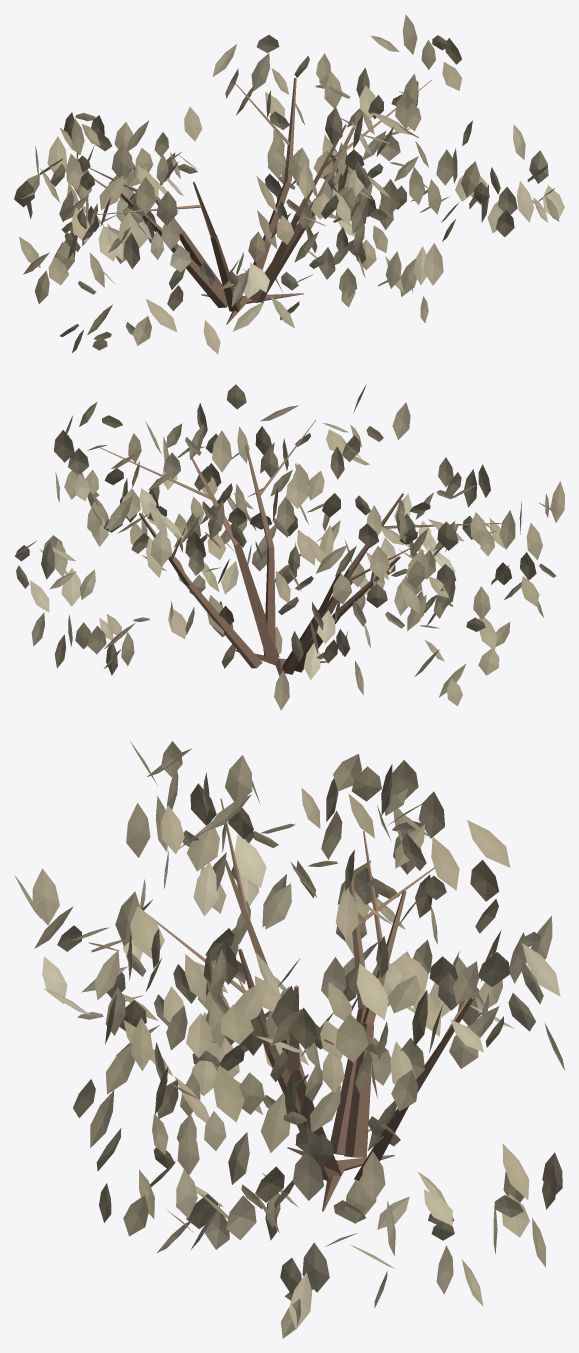
Rendered from bush_3d_02_golden_beige.glb.
The picture shows the model from 3 angles, top to bottom: view 1: azimuth 30°, elevation 25°; view 2: azimuth 150°, elevation 25°; view 3: azimuth 270°, elevation 25°; orthographic projection. The views are drawn at different scales.
Parts seen in each view (by area): view 1: bush_3d_02_golden_beige_foliage, bush_3d_02_golden_beige_wood; view 2: bush_3d_02_golden_beige_foliage, bush_3d_02_golden_beige_wood; view 3: bush_3d_02_golden_beige_foliage, bush_3d_02_golden_beige_wood.
Boxes of the visible parts, x1,y1,x2,y2 form: bush_3d_02_golden_beige_foliage: (14, 14, 564, 354); bush_3d_02_golden_beige_wood: (82, 78, 431, 324); bush_3d_02_golden_beige_foliage: (15, 384, 564, 710); bush_3d_02_golden_beige_wood: (100, 420, 501, 675); bush_3d_02_golden_beige_foliage: (14, 740, 564, 1338); bush_3d_02_golden_beige_wood: (146, 798, 492, 1211).
Size of the model in its own units: 3.4 by 1.45 by 2.1.
